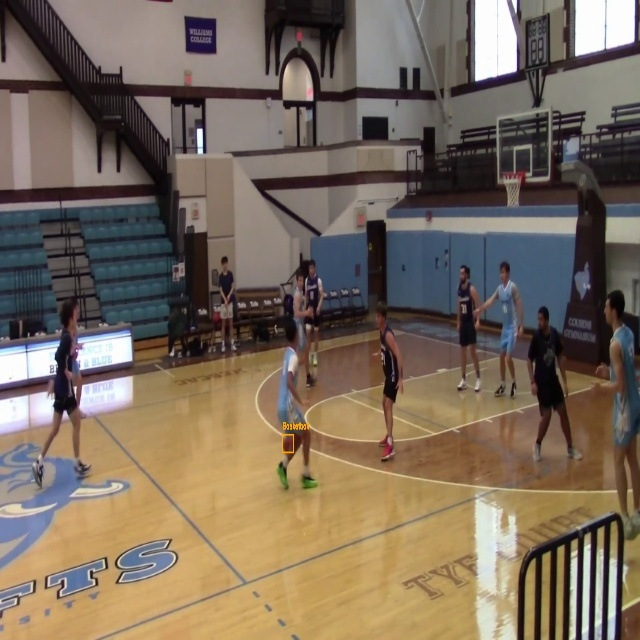Basketball: (283, 435, 294, 453)
